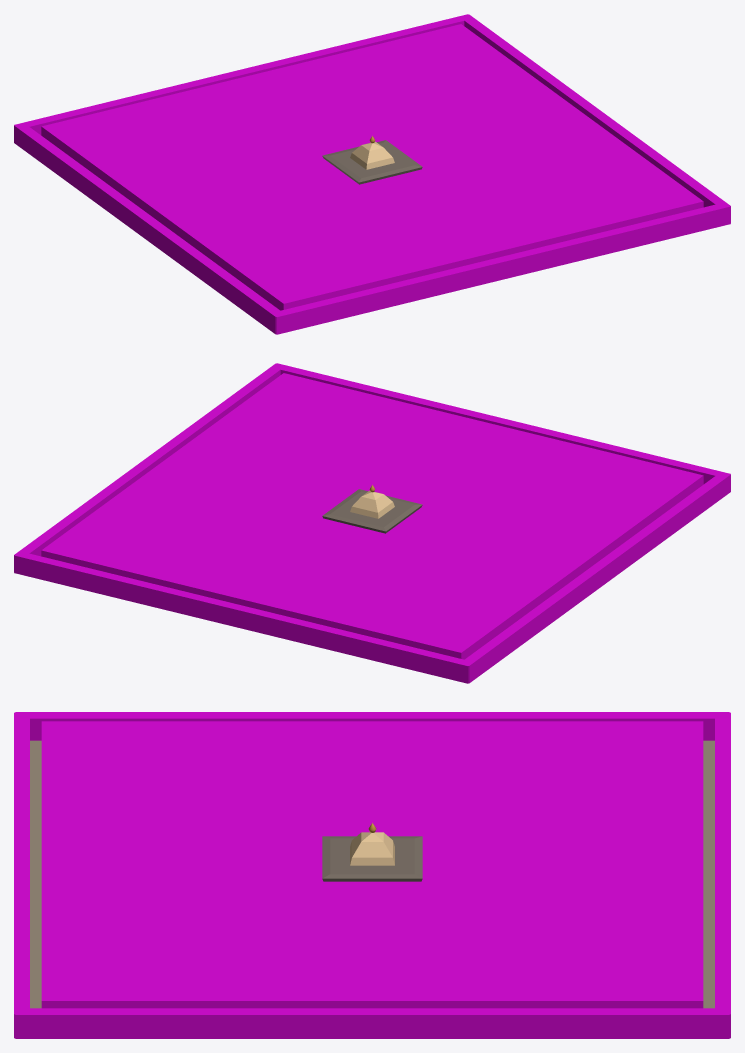
Rendered from ENV_Temple_Tank_Large_A.glb.
3 views of the same model, one above another, from view 1: azimuth 30°, elevation 25°; view 2: azimuth 150°, elevation 25°; view 3: azimuth 270°, elevation 25° (orthographic). The views are drawn at different scales.
Visible parts, largest first — view 1: COL_Basin, COL_Rim_S, COL_Rim_W, COL_Rim_E, COL_Rim_N, ENV_Temple_Tank_Large_A_Mesh; view 2: COL_Basin, COL_Rim_N, COL_Rim_W, COL_Rim_E, COL_Rim_S, ENV_Temple_Tank_Large_A_Mesh; view 3: COL_Basin, COL_Rim_E, ENV_Temple_Tank_Large_A_Mesh, COL_Rim_W, COL_Rim_N, COL_Rim_S.
Part boxes in pixels (left/top/right/bottom): COL_Basin: left=41, top=24, right=703, bottom=310; COL_Rim_S: left=275, top=204, right=730, bottom=334; COL_Rim_W: left=14, top=124, right=283, bottom=334; COL_Rim_E: left=459, top=14, right=730, bottom=223; COL_Rim_N: left=14, top=14, right=473, bottom=134; ENV_Temple_Tank_Large_A_Mesh: left=322, top=136, right=422, bottom=184; COL_Basin: left=41, top=373, right=703, bottom=659; COL_Rim_N: left=14, top=552, right=468, bottom=683; COL_Rim_W: left=461, top=472, right=730, bottom=683; COL_Rim_E: left=14, top=363, right=285, bottom=572; COL_Rim_S: left=271, top=363, right=730, bottom=483; ENV_Temple_Tank_Large_A_Mesh: left=322, top=485, right=422, bottom=533; COL_Basin: left=41, top=721, right=703, bottom=1008; COL_Rim_E: left=15, top=1008, right=729, bottom=1038; ENV_Temple_Tank_Large_A_Mesh: left=30, top=740, right=714, bottom=1008; COL_Rim_W: left=15, top=712, right=729, bottom=740; COL_Rim_N: left=715, top=712, right=730, bottom=1038; COL_Rim_S: left=14, top=712, right=29, bottom=1038.
Size of the model in its own units: 27.1 by 4.7 by 27.1.
